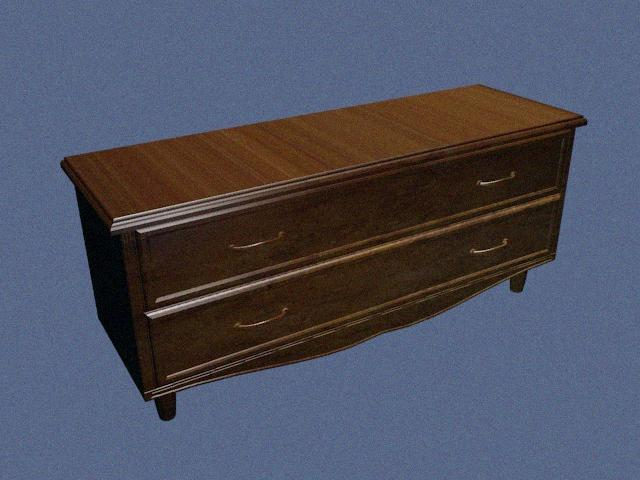cabinet_door: (142, 181, 566, 251), (152, 251, 555, 320)
handle: (470, 166, 522, 189), (232, 309, 287, 330), (465, 243, 509, 259), (224, 238, 268, 252)
